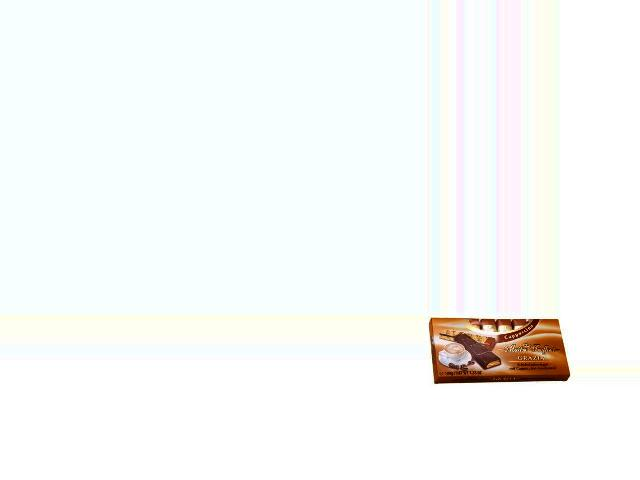chocolate: (428, 316, 572, 383)
